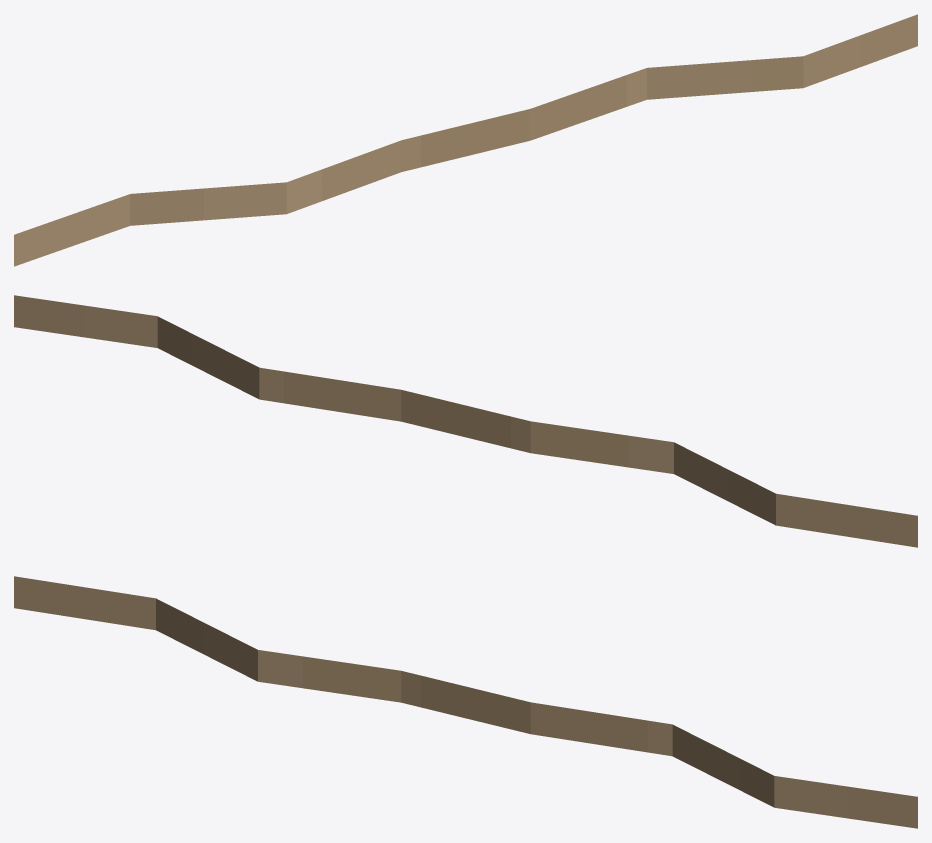
Rendered from Woven-hem.glb.
3 views of the same model, one above another, from view 1: azimuth 30°, elevation 25°; view 2: azimuth 150°, elevation 25°; view 3: azimuth 330°, elevation 25° (orthographic).
Visible parts, largest first — view 1: Woven-hem; view 2: Woven-hem; view 3: Woven-hem.
Boxes of the visible parts, x1,y1,x2,y2 form: Woven-hem: [14, 14, 917, 266]; Woven-hem: [14, 295, 917, 547]; Woven-hem: [14, 576, 917, 828].
Bounding box in the file's own units: 0.326 × 0.011 × 0.017.
1 material, 1 textured.
